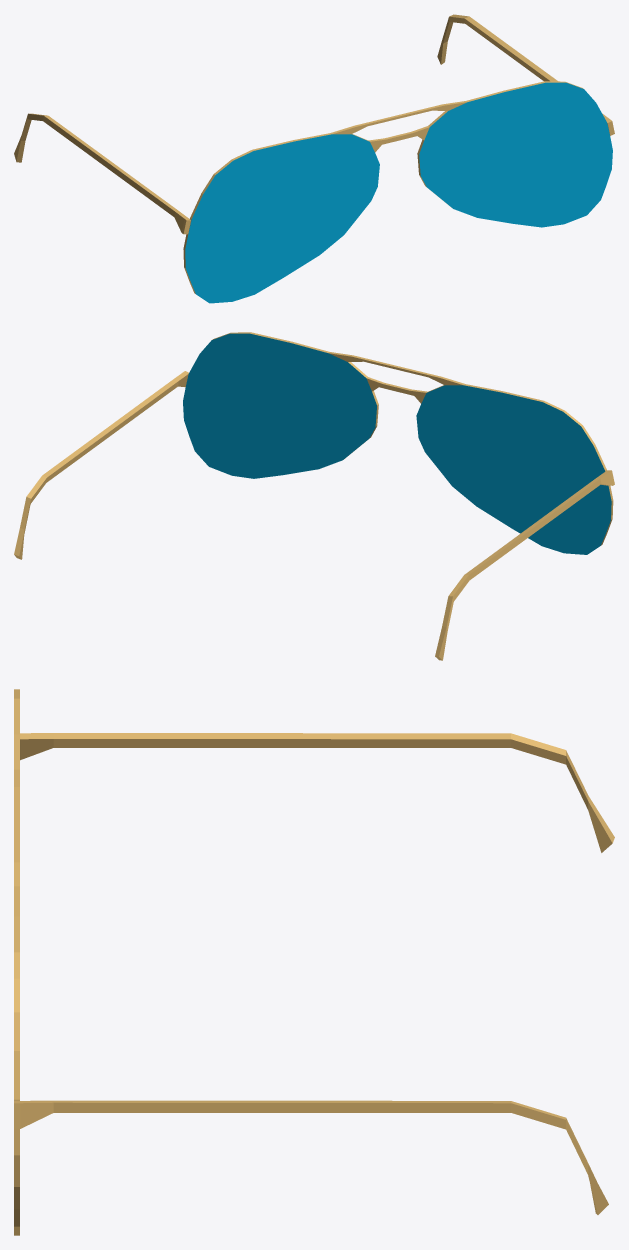
The model's file is Rayban.fbx.
3 renders of one model, top to bottom at view 1: azimuth 30°, elevation 25°; view 2: azimuth 150°, elevation 25°; view 3: azimuth 270°, elevation 25°, orthographic. The views are drawn at different scales.
Visible parts, largest first — view 1: Rayban; view 2: Rayban; view 3: Rayban.
Boxes of the visible parts, x1=… form: Rayban: x1=14, y1=14, x2=614, y2=303; Rayban: x1=14, y1=332, x2=614, y2=660; Rayban: x1=14, y1=689, x2=614, y2=1235.
Bounding box in the file's own units: 110 × 36.44 × 76.44.
